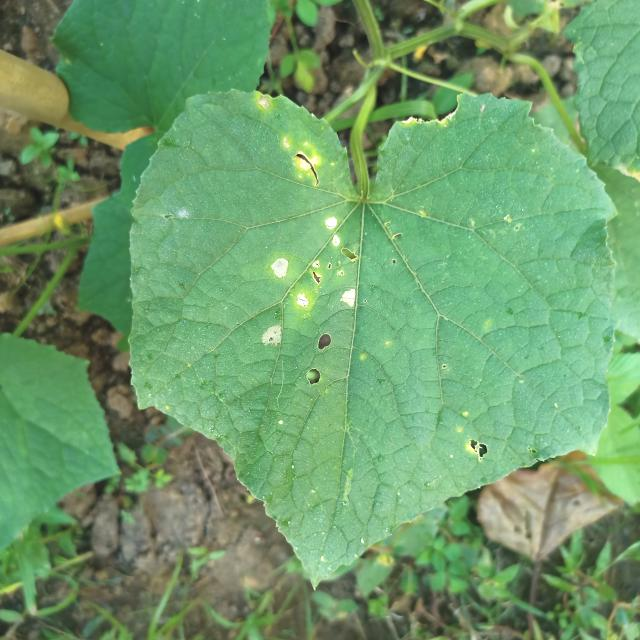disease_cucumber: (244, 204, 370, 359)
